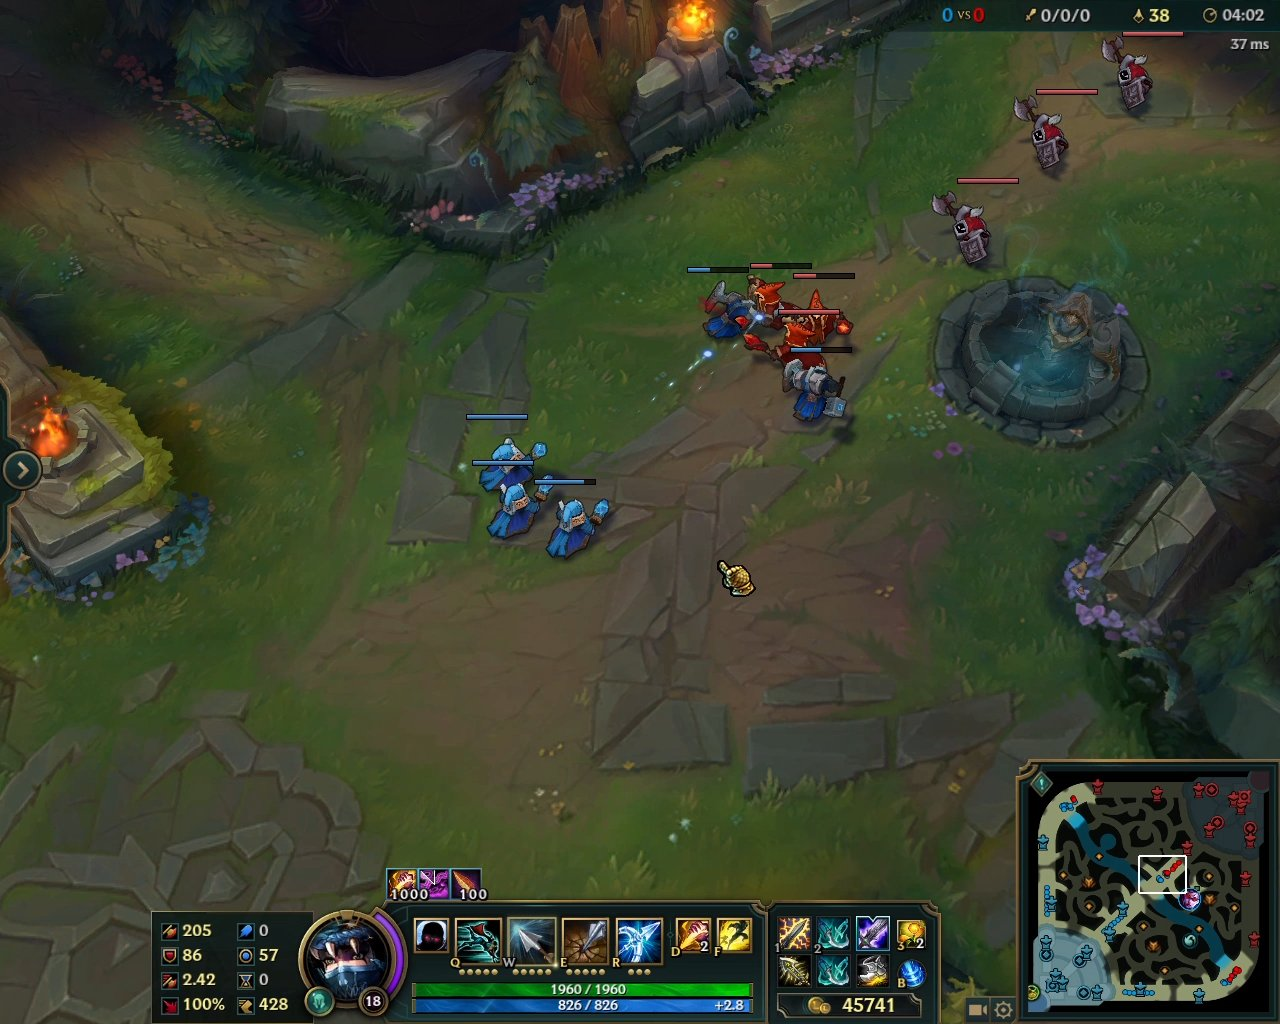EnemyMinion: (927, 178, 1017, 267), (1092, 30, 1184, 114), (1009, 89, 1096, 174), (741, 308, 840, 371), (736, 263, 812, 332)
